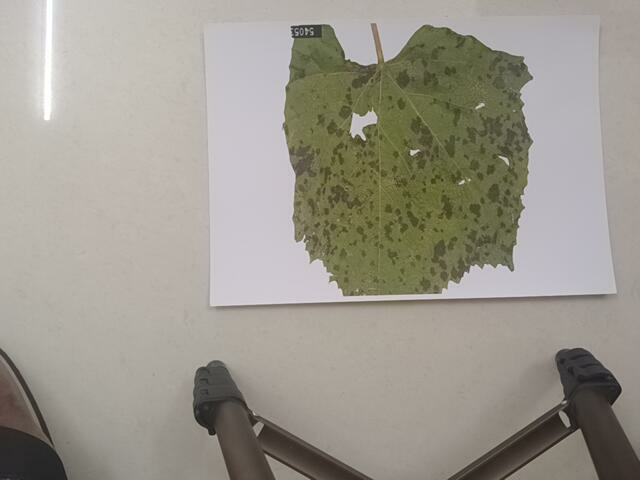Grape_Blight_Leaf: (278, 25, 587, 295)
